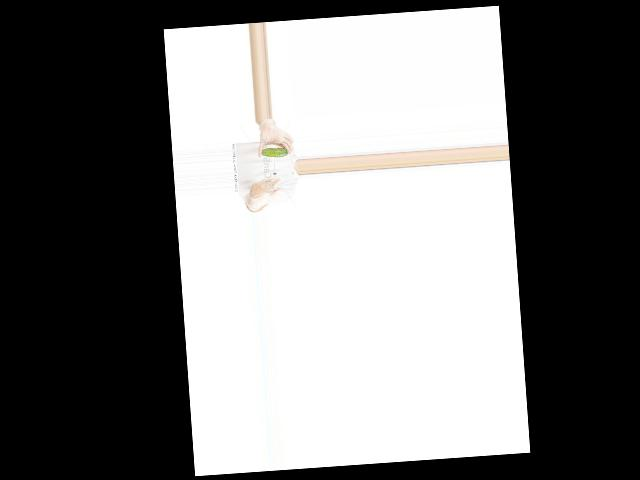cucumber: (261, 146, 288, 157)
